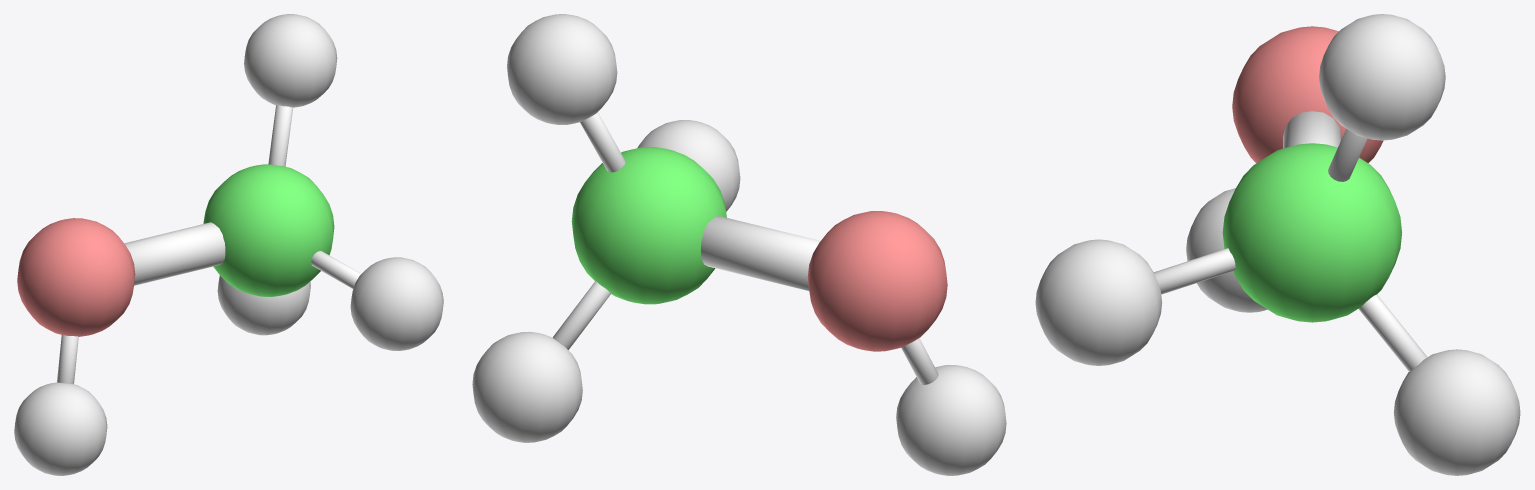
File: Alcool.fbx
The picture shows the model from 3 angles, left to right: view 1: azimuth 30°, elevation 25°; view 2: azimuth 150°, elevation 25°; view 3: azimuth 270°, elevation 25°; orthographic projection. The views are drawn at different scales.
Parts seen in each view (by area): view 1: Shape_Sphere.001, Shape_Sphere, Shape_Sphere.003, Shape_Sphere.005, Shape_Sphere.004, Shape_Cylinder, Shape_Sphere.002, Shape_Cylinder.004, Shape_Cylinder.003, Shape_Cylinder.001; view 2: Shape_Sphere.001, Shape_Sphere, Shape_Sphere.002, Shape_Sphere.004, Shape_Sphere.005, Shape_Cylinder, Shape_Sphere.003, Shape_Cylinder.002, Shape_Cylinder.004, Shape_Cylinder.001; view 3: Shape_Sphere.001, Shape_Sphere.004, Shape_Sphere.003, Shape_Sphere.002, Shape_Sphere, Shape_Sphere.005, Shape_Cylinder.002, Shape_Cylinder.003, Shape_Cylinder, Shape_Cylinder.004.
Part boxes in pixels (x1,y1,x2,y2): Shape_Sphere.001: (203, 164, 334, 296); Shape_Sphere: (17, 218, 135, 336); Shape_Sphere.003: (350, 257, 443, 350); Shape_Sphere.005: (14, 382, 107, 475); Shape_Sphere.004: (244, 14, 337, 107); Shape_Cylinder: (124, 222, 225, 285); Shape_Sphere.002: (217, 275, 310, 335); Shape_Cylinder.004: (268, 105, 292, 166); Shape_Cylinder.003: (311, 251, 361, 288); Shape_Cylinder.001: (57, 335, 78, 384); Shape_Sphere.001: (571, 147, 726, 304); Shape_Sphere: (807, 211, 947, 351); Shape_Sphere.002: (472, 331, 582, 442); Shape_Sphere.004: (507, 14, 617, 124); Shape_Sphere.005: (896, 365, 1006, 475); Shape_Cylinder: (701, 215, 820, 290); Shape_Sphere.003: (637, 120, 740, 211); Shape_Cylinder.002: (553, 281, 611, 349); Shape_Cylinder.004: (580, 112, 625, 172); Shape_Cylinder.001: (901, 338, 938, 384); Shape_Sphere.001: (1222, 143, 1401, 322); Shape_Sphere.004: (1319, 14, 1445, 140); Shape_Sphere.003: (1035, 239, 1162, 365); Shape_Sphere.002: (1393, 349, 1520, 475); Shape_Sphere: (1232, 26, 1383, 163); Shape_Sphere.005: (1186, 188, 1267, 312); Shape_Cylinder.002: (1358, 294, 1427, 371); Shape_Cylinder.003: (1153, 248, 1235, 294); Shape_Cylinder: (1283, 111, 1341, 148); Shape_Cylinder.004: (1328, 129, 1367, 181).
Bounding box in the file's own units: 267 × 246 × 230.
